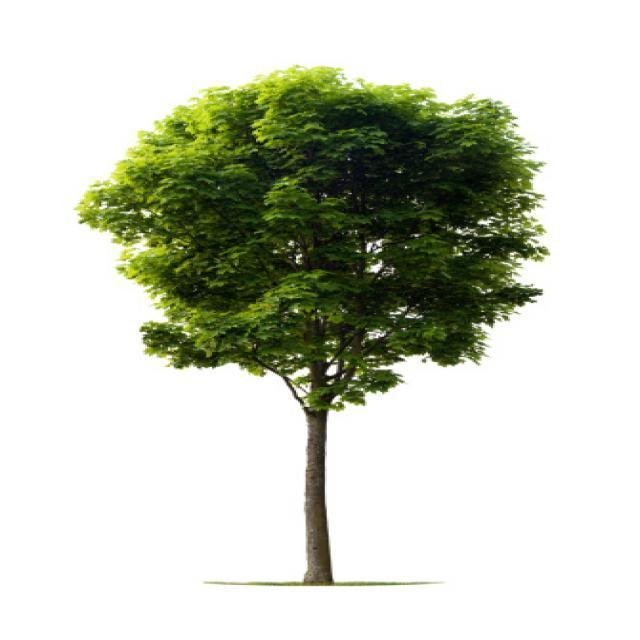tree: (103, 72, 558, 586)
